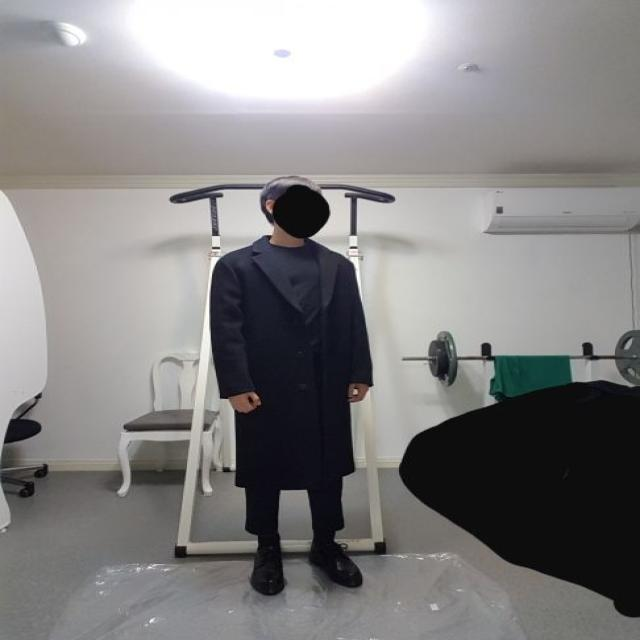coat: (210, 235, 376, 492)
slacks: (248, 483, 349, 537)
